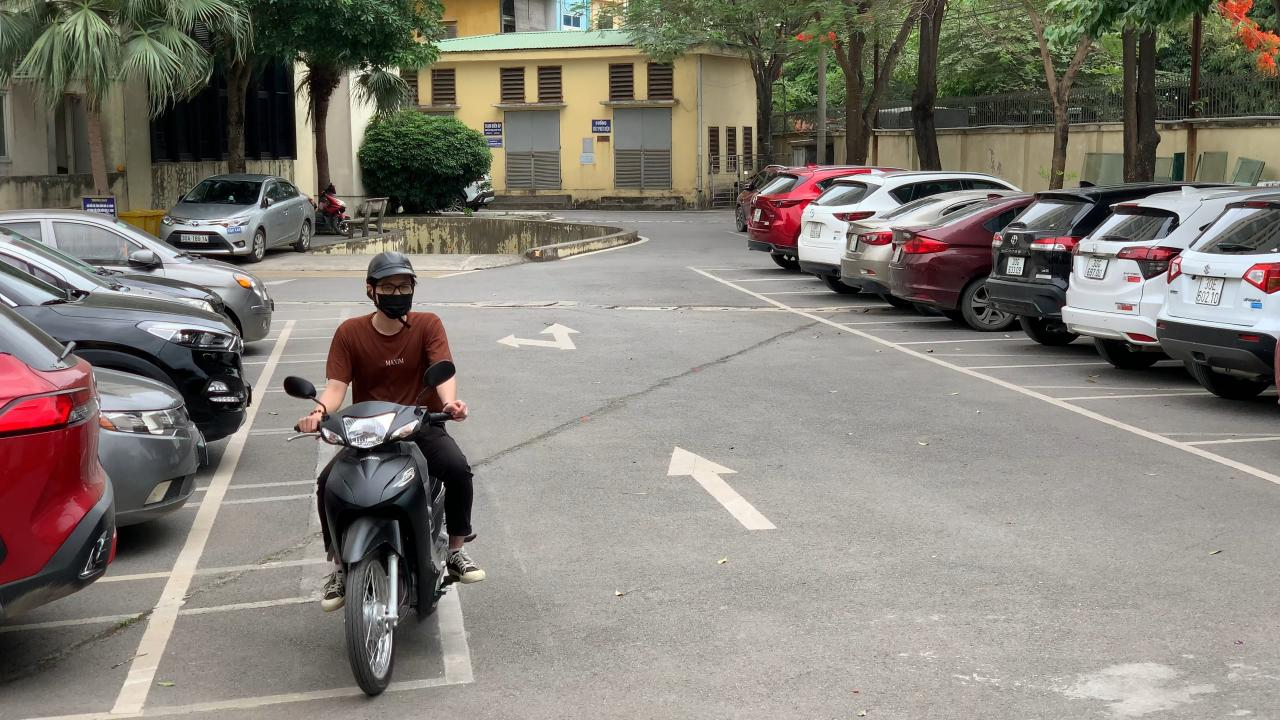helmet: (364, 250, 420, 283)
motorcyclist: (282, 247, 485, 695)
